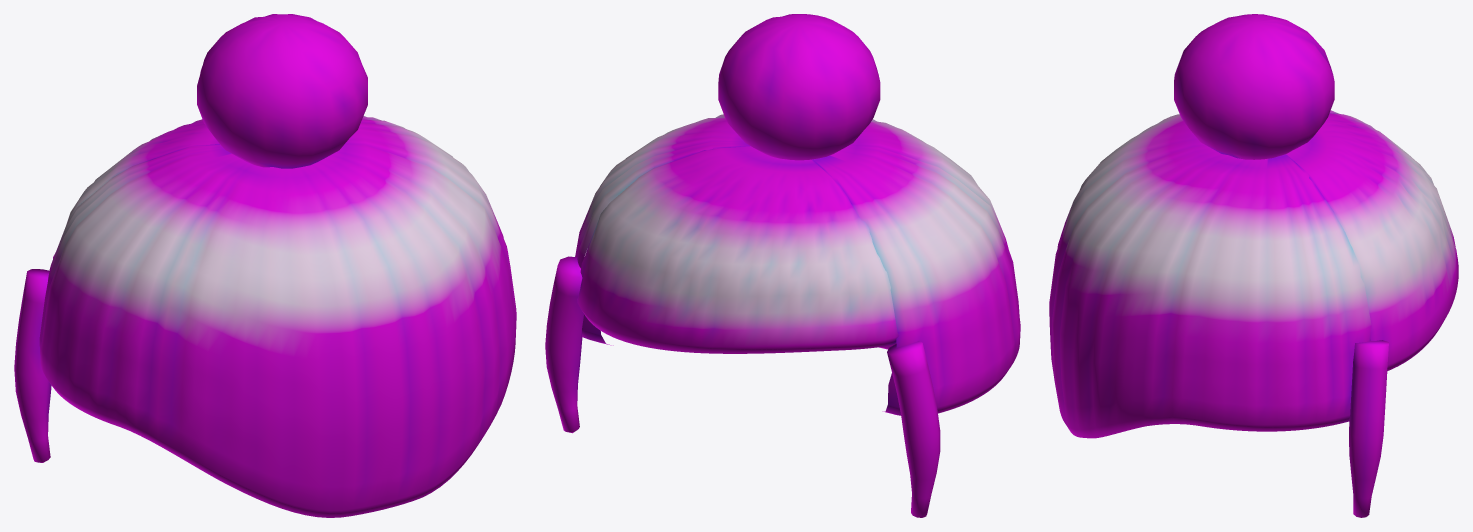
File: bun.glb
3 views of the same model, side by side, from view 1: azimuth 30°, elevation 25°; view 2: azimuth 150°, elevation 25°; view 3: azimuth 270°, elevation 25° (orthographic). The views are drawn at different scales.
Parts seen in each view (by area): view 1: bun; view 2: bun; view 3: bun.
Boxes of the visible parts, x1=… form: bun: x1=14, y1=14, x2=516, y2=517; bun: x1=545, y1=14, x2=1020, y2=517; bun: x1=1049, y1=14, x2=1458, y2=517.
Size of the model in its own units: 0.9085 by 0.8895 by 0.8034.
